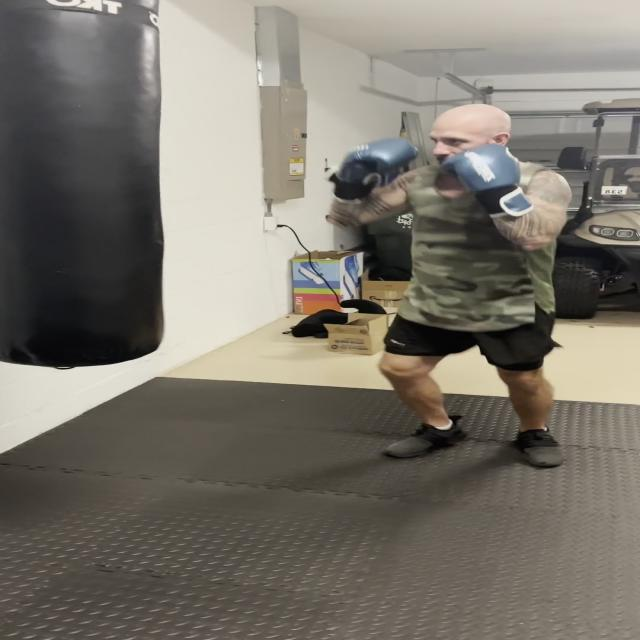bag: (0, 0, 165, 372)
no punch: (321, 100, 566, 257)
